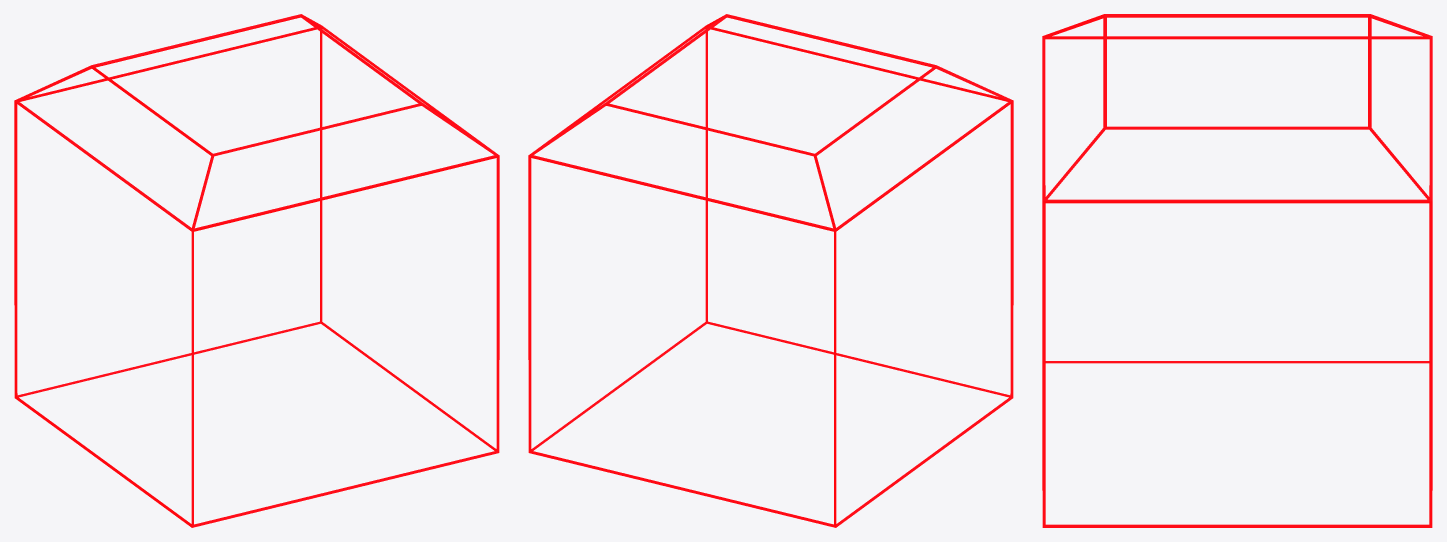
The model's file is altar-without-top.gltf.
3 renders of one model, left to right at view 1: azimuth 30°, elevation 25°; view 2: azimuth 150°, elevation 25°; view 3: azimuth 270°, elevation 25°, orthographic. The views are drawn at different scales.
Parts seen in each view (by area): view 1: altar; view 2: altar; view 3: altar.
Boxes of the visible parts, box(x1,y1,x2,y2) form: altar: box(14, 14, 499, 527); altar: box(528, 14, 1013, 527); altar: box(1042, 14, 1432, 527).
Size of the model in its own units: 2.03 by 2.15 by 2.03.
